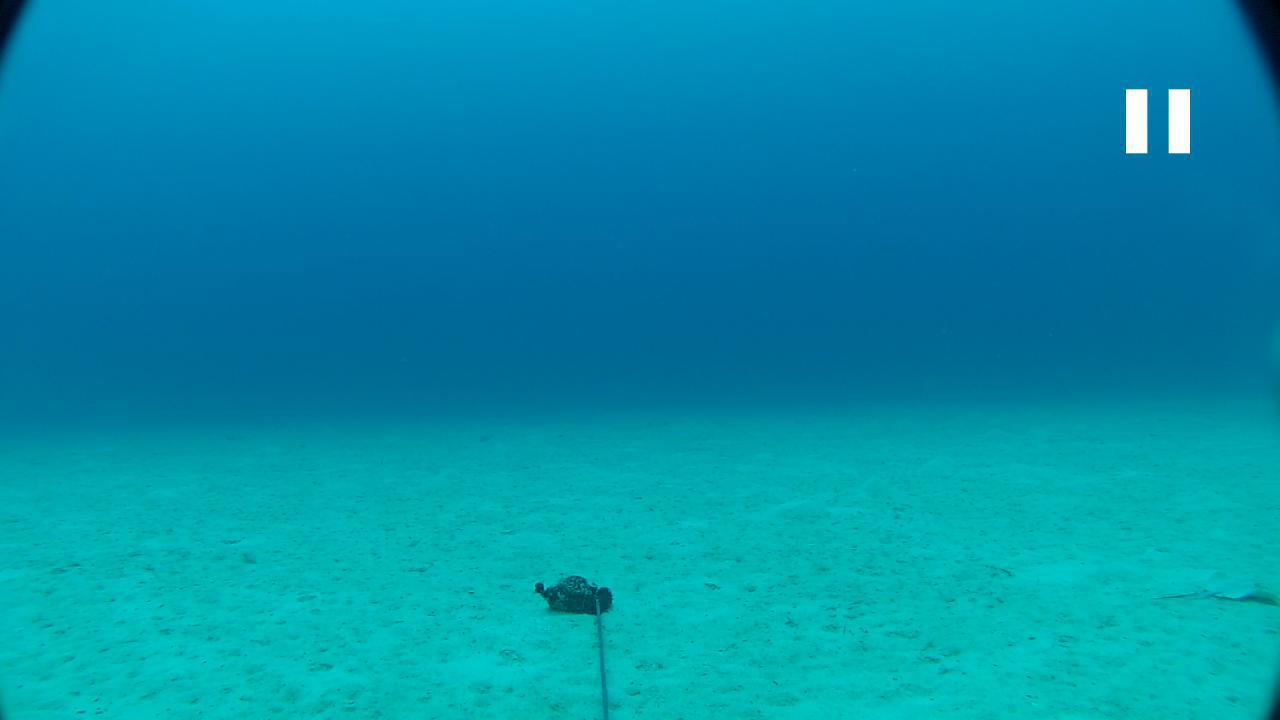dasyatis: (1148, 567, 1280, 603)
